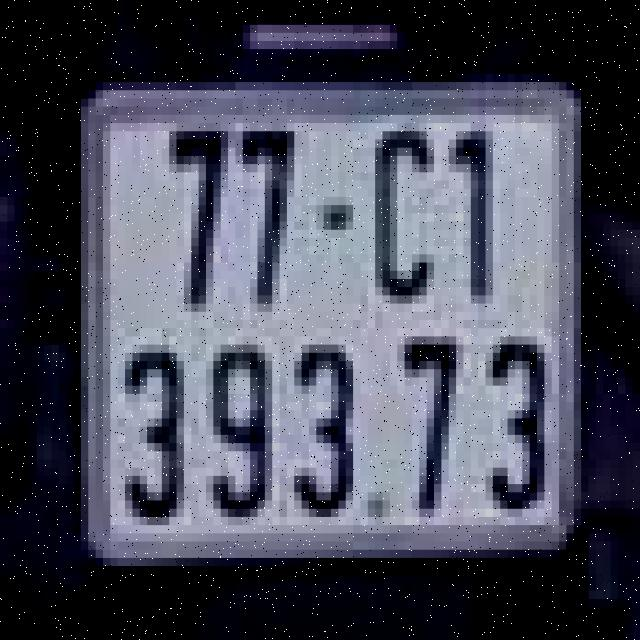1: (445, 115, 504, 320)
3: (99, 324, 195, 546), (482, 324, 570, 546), (290, 332, 372, 530)
7: (390, 332, 478, 538), (154, 111, 236, 324), (239, 111, 305, 316)
8: (202, 341, 284, 529)
C: (372, 119, 445, 308)
